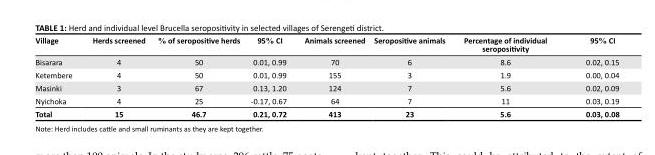table: (34, 34, 618, 118)
table column: (453, 34, 565, 118), (150, 34, 244, 118), (368, 34, 453, 118), (294, 34, 368, 118), (81, 34, 150, 118), (565, 34, 618, 118), (244, 34, 294, 118), (34, 34, 81, 118)
table column header: (34, 34, 618, 55)
table row: (34, 34, 618, 55), (34, 55, 618, 68), (34, 68, 618, 81), (34, 81, 618, 94), (34, 94, 618, 106), (34, 106, 618, 118)
